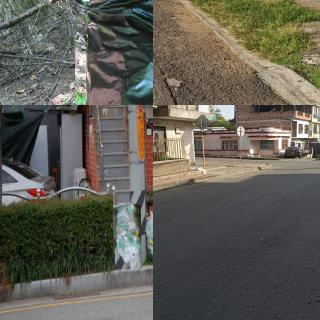Garbage: (71, 0, 153, 105), (114, 205, 142, 269), (146, 213, 153, 263), (193, 167, 203, 171), (201, 169, 207, 175), (250, 154, 254, 158), (246, 154, 251, 157)
